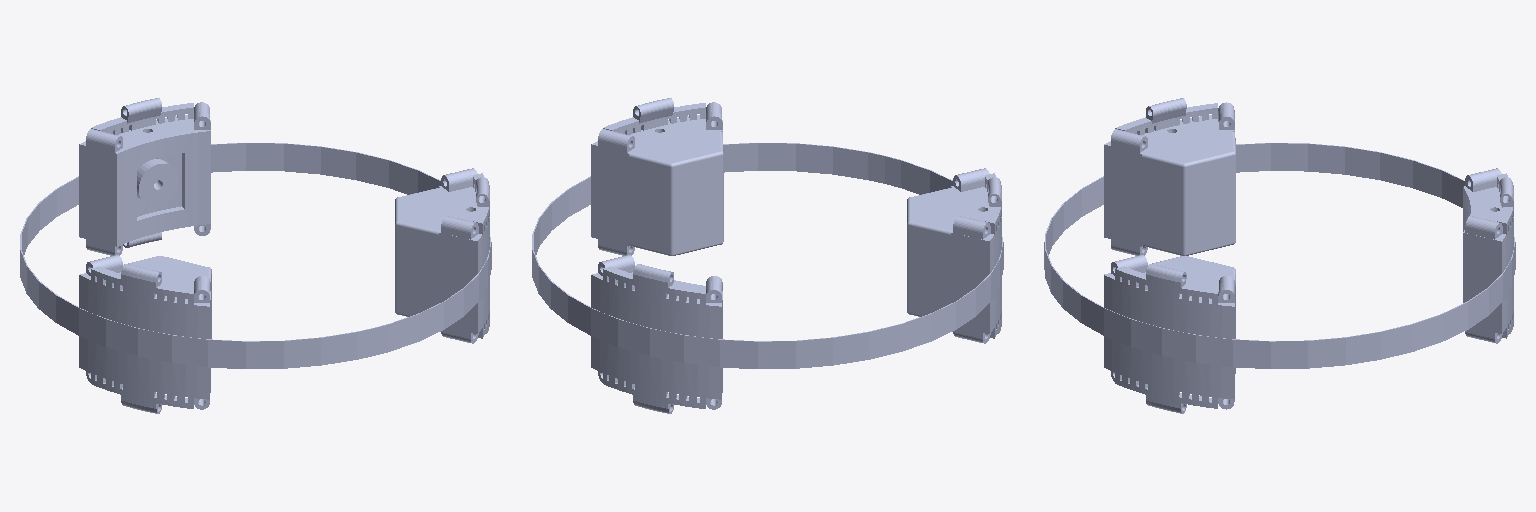
robot.urdf — SoftGrasperAssembly:
<?xml version="1.0" encoding="utf-8"?>
<!-- This URDF was automatically created by SolidWorks to URDF Exporter! Originally created by [author] ([email redacted]) 
     Commit Version: 1.6.0-4-g7f85cfe  Build Version: 1.6.7995.38578
     For more information, please see http://wiki.ros.org/sw_urdf_exporter -->
<robot
  name="SoftGrasperAssembly">
  <link
    name="ConstrainingCylinder">
    <inertial>
      <origin
        xyz="0.097576 -0.075206 -0.045368"
        rpy="0 0 0" />
      <mass
        value="0.0019298" />
      <inertia
        ixx="5.7054E-06"
        ixy="4.1277E-36"
        ixz="-2.7557E-37"
        iyy="5.7054E-06"
        iyz="3.4737E-22"
        izz="1.1379E-05" />
    </inertial>
    <visual>
      <origin
        xyz="0 0 0"
        rpy="0 0 0" />
      <geometry>
        <mesh
          filename="package://SoftGrasperAssembly/meshes/ConstrainingCylinder.STL" />
      </geometry>
      <material
        name="">
        <color
          rgba="0.79216 0.81961 0.93333 1" />
      </material>
    </visual>
    <collision>
      <origin
        xyz="0 0 0"
        rpy="0 0 0" />
      <geometry>
        <mesh
          filename="package://SoftGrasperAssembly/meshes/ConstrainingCylinder.STL" />
      </geometry>
    </collision>
  </link>
  <link
    name="JawSupport">
    <inertial>
      <origin
        xyz="0 -6.088E-05 0.0056971"
        rpy="0 0 0" />
      <mass
        value="0.020019" />
      <inertia
        ixx="2.8922E-06"
        ixy="2.0843E-21"
        ixz="1.6227E-20"
        iyy="3.6958E-06"
        iyz="-8.3292E-10"
        izz="5.9269E-06" />
    </inertial>
    <visual>
      <origin
        xyz="0 0 0"
        rpy="0 0 0" />
      <geometry>
        <mesh
          filename="package://SoftGrasperAssembly/meshes/JawSupport.STL" />
      </geometry>
      <material
        name="">
        <color
          rgba="0.79216 0.81961 0.93333 1" />
      </material>
    </visual>
    <collision>
      <origin
        xyz="0 0 0"
        rpy="0 0 0" />
      <geometry>
        <mesh
          filename="package://SoftGrasperAssembly/meshes/JawSupport.STL" />
      </geometry>
    </collision>
  </link>
  <joint
    name="LinearJaw1"
    type="prismatic">
    <origin
      xyz="0.097576 0 -0.045368"
      rpy="1.5708 0 0" />
    <parent
      link="ConstrainingCylinder" />
    <child
      link="JawSupport" />
    <axis
      xyz="0 0 1" />
    <limit
      lower="0"
      upper="1"
      effort="0"
      velocity="0" />
    <dynamics
      damping="0.1"
      friction="0.1" />
  </joint>
  <link
    name="SoftJaw1">
    <inertial>
      <origin
        xyz="-1.3878E-17 -6.9389E-18 -0.054391"
        rpy="0 0 0" />
      <mass
        value="0.015121" />
      <inertia
        ixx="1.7236E-06"
        ixy="-3.1827E-21"
        ixz="1.0894E-21"
        iyy="1.331E-06"
        iyz="2.334E-22"
        izz="2.4259E-06" />
    </inertial>
    <visual>
      <origin
        xyz="0 0 0"
        rpy="0 0 0" />
      <geometry>
        <mesh
          filename="package://SoftGrasperAssembly/meshes/SoftJaw1.STL" />
      </geometry>
      <material
        name="">
        <color
          rgba="0.79216 0.81961 0.93333 1" />
      </material>
    </visual>
    <collision>
      <origin
        xyz="0 0 0"
        rpy="0 0 0" />
      <geometry>
        <mesh
          filename="package://SoftGrasperAssembly/meshes/SoftJaw1.STL" />
      </geometry>
    </collision>
  </link>
  <joint
    name="SJ1"
    type="fixed">
    <origin
      xyz="0 0 0.075206"
      rpy="0 0 0" />
    <parent
      link="JawSupport" />
    <child
      link="SoftJaw1" />
    <axis
      xyz="0 0 0" />
  </joint>
  <link
    name="JawSupport2">
    <inertial>
      <origin
        xyz="-5.0259E-09 -6.0879E-05 -0.022608"
        rpy="0 0 0" />
      <mass
        value="0.020019" />
      <inertia
        ixx="2.8922E-06"
        ixy="2.1735E-13"
        ixz="2.0391E-13"
        iyy="3.6958E-06"
        iyz="-8.3305E-10"
        izz="5.9269E-06" />
    </inertial>
    <visual>
      <origin
        xyz="0 0 0"
        rpy="0 0 0" />
      <geometry>
        <mesh
          filename="package://SoftGrasperAssembly/meshes/JawSupport2.STL" />
      </geometry>
      <material
        name="">
        <color
          rgba="0.79216 0.81961 0.93333 1" />
      </material>
    </visual>
    <collision>
      <origin
        xyz="0 0 0"
        rpy="0 0 0" />
      <geometry>
        <mesh
          filename="package://SoftGrasperAssembly/meshes/JawSupport2.STL" />
      </geometry>
    </collision>
  </link>
  <joint
    name="LinearJaw2"
    type="prismatic">
    <origin
      xyz="0.056959 -0.098656 -0.045368"
      rpy="1.5708 0 2.0944" />
    <parent
      link="ConstrainingCylinder" />
    <child
      link="JawSupport2" />
    <axis
      xyz="0 0 1" />
    <limit
      lower="0"
      upper="1"
      effort="0"
      velocity="0" />
    <dynamics
      damping="0.1"
      friction="0.1" />
  </joint>
  <link
    name="SoftJaw2">
    <inertial>
      <origin
        xyz="6.7378E-11 -6.9389E-18 -0.054391"
        rpy="0 0 0" />
      <mass
        value="0.015121" />
      <inertia
        ixx="1.7236E-06"
        ixy="-1.7125E-21"
        ixz="-1.0243E-14"
        iyy="1.331E-06"
        iyz="1.324E-21"
        izz="2.4259E-06" />
    </inertial>
    <visual>
      <origin
        xyz="0 0 0"
        rpy="0 0 0" />
      <geometry>
        <mesh
          filename="package://SoftGrasperAssembly/meshes/SoftJaw2.STL" />
      </geometry>
      <material
        name="">
        <color
          rgba="0.79216 0.81961 0.93333 1" />
      </material>
    </visual>
    <collision>
      <origin
        xyz="0 0 0"
        rpy="0 0 0" />
      <geometry>
        <mesh
          filename="package://SoftGrasperAssembly/meshes/SoftJaw2.STL" />
      </geometry>
    </collision>
  </link>
  <joint
    name="SJ2"
    type="fixed">
    <origin
      xyz="0 0 0.046901"
      rpy="0 0 0" />
    <parent
      link="JawSupport2" />
    <child
      link="SoftJaw2" />
    <axis
      xyz="0 0 0" />
  </joint>
  <link
    name="JawSupport3">
    <inertial>
      <origin
        xyz="5.0259E-09 -6.0879E-05 -0.031111"
        rpy="0 0 0" />
      <mass
        value="0.020019" />
      <inertia
        ixx="2.8922E-06"
        ixy="-2.1735E-13"
        ixz="-2.0391E-13"
        iyy="3.6958E-06"
        iyz="-8.3305E-10"
        izz="5.9269E-06" />
    </inertial>
    <visual>
      <origin
        xyz="0 0 0"
        rpy="0 0 0" />
      <geometry>
        <mesh
          filename="package://SoftGrasperAssembly/meshes/JawSupport3.STL" />
      </geometry>
      <material
        name="">
        <color
          rgba="0.79216 0.81961 0.93333 1" />
      </material>
    </visual>
    <collision>
      <origin
        xyz="0 0 0"
        rpy="0 0 0" />
      <geometry>
        <mesh
          filename="package://SoftGrasperAssembly/meshes/JawSupport3.STL" />
      </geometry>
    </collision>
  </link>
  <joint
    name="LinearJaw3"
    type="prismatic">
    <origin
      xyz="0.13083 -0.094404 -0.045368"
      rpy="1.5708 0 -2.0944" />
    <parent
      link="ConstrainingCylinder" />
    <child
      link="JawSupport3" />
    <axis
      xyz="0 0 1" />
    <limit
      lower="0"
      upper="1"
      effort="0"
      velocity="0" />
    <dynamics
      damping="0.1"
      friction="0.1" />
  </joint>
  <link
    name="SoftJaw3">
    <inertial>
      <origin
        xyz="-6.7378E-11 -2.7756E-17 -0.054391"
        rpy="0 0 0" />
      <mass
        value="0.015121" />
      <inertia
        ixx="1.7236E-06"
        ixy="-3.2269E-22"
        ixz="1.0243E-14"
        iyy="1.331E-06"
        iyz="1.127E-21"
        izz="2.4259E-06" />
    </inertial>
    <visual>
      <origin
        xyz="0 0 0"
        rpy="0 0 0" />
      <geometry>
        <mesh
          filename="package://SoftGrasperAssembly/meshes/SoftJaw3.STL" />
      </geometry>
      <material
        name="">
        <color
          rgba="0.79216 0.81961 0.93333 1" />
      </material>
    </visual>
    <collision>
      <origin
        xyz="0 0 0"
        rpy="0 0 0" />
      <geometry>
        <mesh
          filename="package://SoftGrasperAssembly/meshes/SoftJaw3.STL" />
      </geometry>
    </collision>
  </link>
  <joint
    name="SJ3"
    type="fixed">
    <origin
      xyz="0 0 0.0383973650995021"
      rpy="0 0 0" />
    <parent
      link="JawSupport3" />
    <child
      link="SoftJaw3" />
    <axis
      xyz="0 0 0" />
  </joint>
</robot>

--- Facts derived from the render (not from the file) ---
The picture shows the robot from 3 angles, left to right: view 1: azimuth 30°, elevation 25°; view 2: azimuth 150°, elevation 25°; view 3: azimuth 270°, elevation 25°; orthographic projection.
Model SoftGrasperAssembly with 7 links and 6 joints (3 prismatic, 3 fixed), rooted at ConstrainingCylinder, posed all joints at 0.
Links seen in each view (by area): view 1: ConstrainingCylinder, JawSupport, JawSupport2, JawSupport3, SoftJaw3, SoftJaw2; view 2: ConstrainingCylinder, JawSupport, SoftJaw3, JawSupport3, JawSupport2, SoftJaw2; view 3: ConstrainingCylinder, JawSupport3, SoftJaw2, JawSupport2, JawSupport, SoftJaw3.
Boxes of the visible links, bbox=[...] form: ConstrainingCylinder: bbox=[20, 143, 491, 368]; JawSupport: bbox=[79, 98, 210, 255]; JawSupport2: bbox=[79, 255, 210, 413]; JawSupport3: bbox=[439, 168, 489, 343]; SoftJaw3: bbox=[395, 188, 446, 316]; SoftJaw2: bbox=[123, 256, 211, 338]; ConstrainingCylinder: bbox=[532, 143, 1003, 368]; JawSupport: bbox=[591, 255, 722, 413]; SoftJaw3: bbox=[629, 131, 723, 255]; JawSupport3: bbox=[591, 98, 722, 255]; JawSupport2: bbox=[951, 168, 1001, 343]; SoftJaw2: bbox=[907, 188, 958, 316]; ConstrainingCylinder: bbox=[1044, 143, 1515, 368]; JawSupport3: bbox=[1104, 255, 1234, 413]; SoftJaw2: bbox=[1142, 131, 1235, 255]; JawSupport2: bbox=[1104, 98, 1234, 255]; JawSupport: bbox=[1463, 168, 1513, 343]; SoftJaw3: bbox=[1152, 256, 1235, 373].
Size in the robot's own frame: 0.1538 by 0.154 by 0.0509 metres.
Meshes: 7 distinct files referenced, 6 mesh visuals loaded (6 binary STL); not drawn: 1 (reference not matched to a file when rendering).